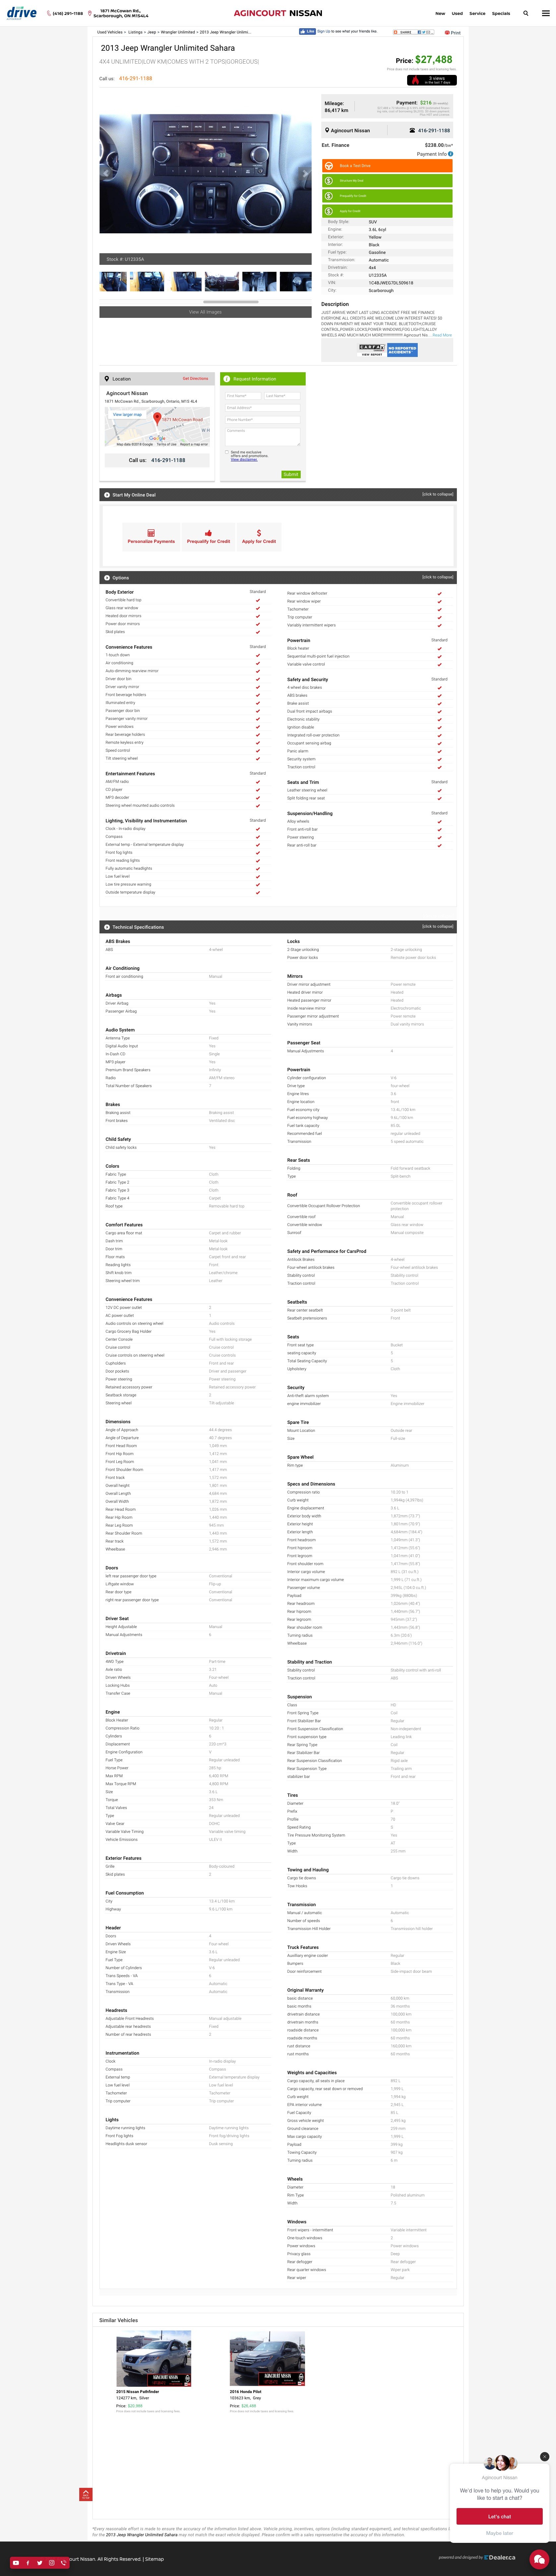car: (298, 166, 313, 181)
